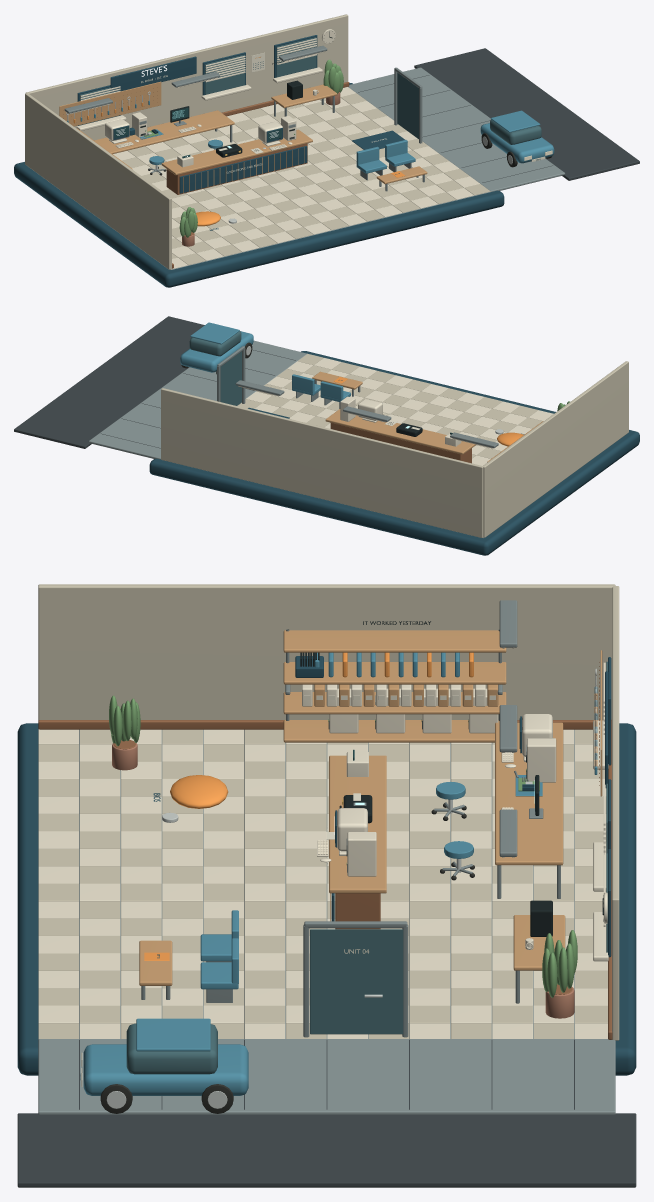
The model's file is shop.glb.
The picture shows the model from 3 angles, top to bottom: view 1: azimuth 30°, elevation 25°; view 2: azimuth 150°, elevation 25°; view 3: azimuth 270°, elevation 25°; orthographic projection. The views are drawn at different scales.
Parts seen in each view (by area): view 1: plaster_geometry, ivory_geometry, navy_geometry, road_geometry, concrete_geometry, wood_light_geometry, glass_geometry, blue_geometry, steel_geometry, wood_geometry, green_geometry, black_geometry (+3 smaller); view 2: plaster_geometry, navy_geometry, road_geometry, ivory_geometry, concrete_geometry, blue_geometry, wood_light_geometry, glass_geometry, steel_geometry, wood_geometry; view 3: plaster_geometry, ivory_geometry, road_geometry, concrete_geometry, wood_light_geometry, navy_geometry, glass_geometry, blue_geometry, steel_geometry, wood_geometry, green_geometry, orange_geometry (+4 smaller).
Part boxes in pixels (x1=…): plaster_geometry: x1=25, y1=14, x2=490, y2=269; ivory_geometry: x1=76, y1=29, x2=479, y2=269; navy_geometry: x1=14, y1=35, x2=540, y2=287; road_geometry: x1=358, y1=48, x2=639, y2=182; concrete_geometry: x1=170, y1=67, x2=565, y2=269; wood_light_geometry: x1=59, y1=81, x2=427, y2=193; glass_geometry: x1=80, y1=37, x2=541, y2=144; blue_geometry: x1=67, y1=101, x2=554, y2=173; steel_geometry: x1=64, y1=45, x2=424, y2=191; wood_geometry: x1=63, y1=82, x2=349, y2=268; green_geometry: x1=144, y1=59, x2=343, y2=237; black_geometry: x1=126, y1=31, x2=334, y2=157; plaster_geometry: x1=161, y1=353, x2=628, y2=537; navy_geometry: x1=149, y1=351, x2=639, y2=555; road_geometry: x1=14, y1=316, x2=295, y2=448; ivory_geometry: x1=246, y1=358, x2=553, y2=465; concrete_geometry: x1=88, y1=340, x2=483, y2=537; blue_geometry: x1=180, y1=322, x2=350, y2=401; wood_light_geometry: x1=312, y1=371, x2=543, y2=462; glass_geometry: x1=189, y1=331, x2=241, y2=405; steel_geometry: x1=217, y1=346, x2=498, y2=448; wood_geometry: x1=330, y1=423, x2=471, y2=463; plaster_geometry: x1=38, y1=584, x2=619, y2=1040; ivory_geometry: x1=38, y1=662, x2=608, y2=1038; road_geometry: x1=17, y1=1039, x2=636, y2=1187; concrete_geometry: x1=38, y1=729, x2=615, y2=1114; wood_light_geometry: x1=139, y1=630, x2=602, y2=985; navy_geometry: x1=17, y1=656, x2=636, y2=1079; glass_geometry: x1=126, y1=661, x2=607, y2=1074; blue_geometry: x1=83, y1=652, x2=597, y2=1095; steel_geometry: x1=141, y1=600, x2=560, y2=1037; wood_geometry: x1=38, y1=662, x2=612, y2=1039; green_geometry: x1=109, y1=695, x2=577, y2=997; orange_geometry: x1=144, y1=652, x2=597, y2=960.
Size of the model in its own units: 26.5 by 4.58 by 15.
